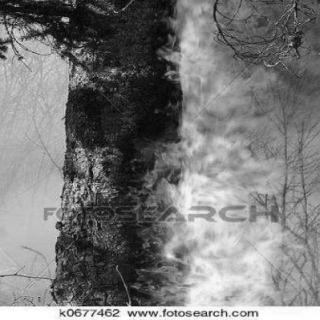Fire: (146, 3, 306, 303)
